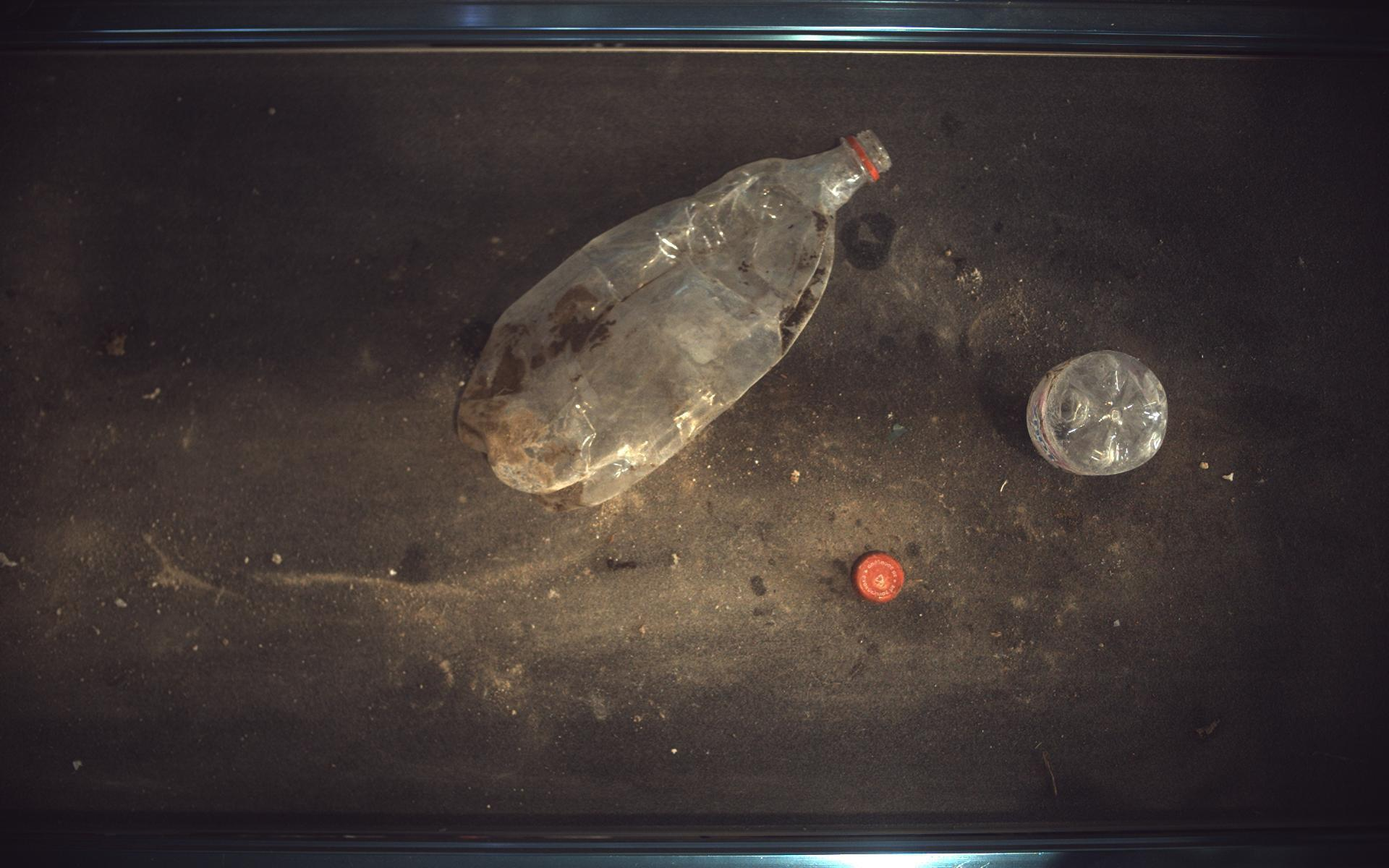general_w: (457, 129, 893, 511), (1029, 351, 1171, 475), (855, 554, 906, 604)
